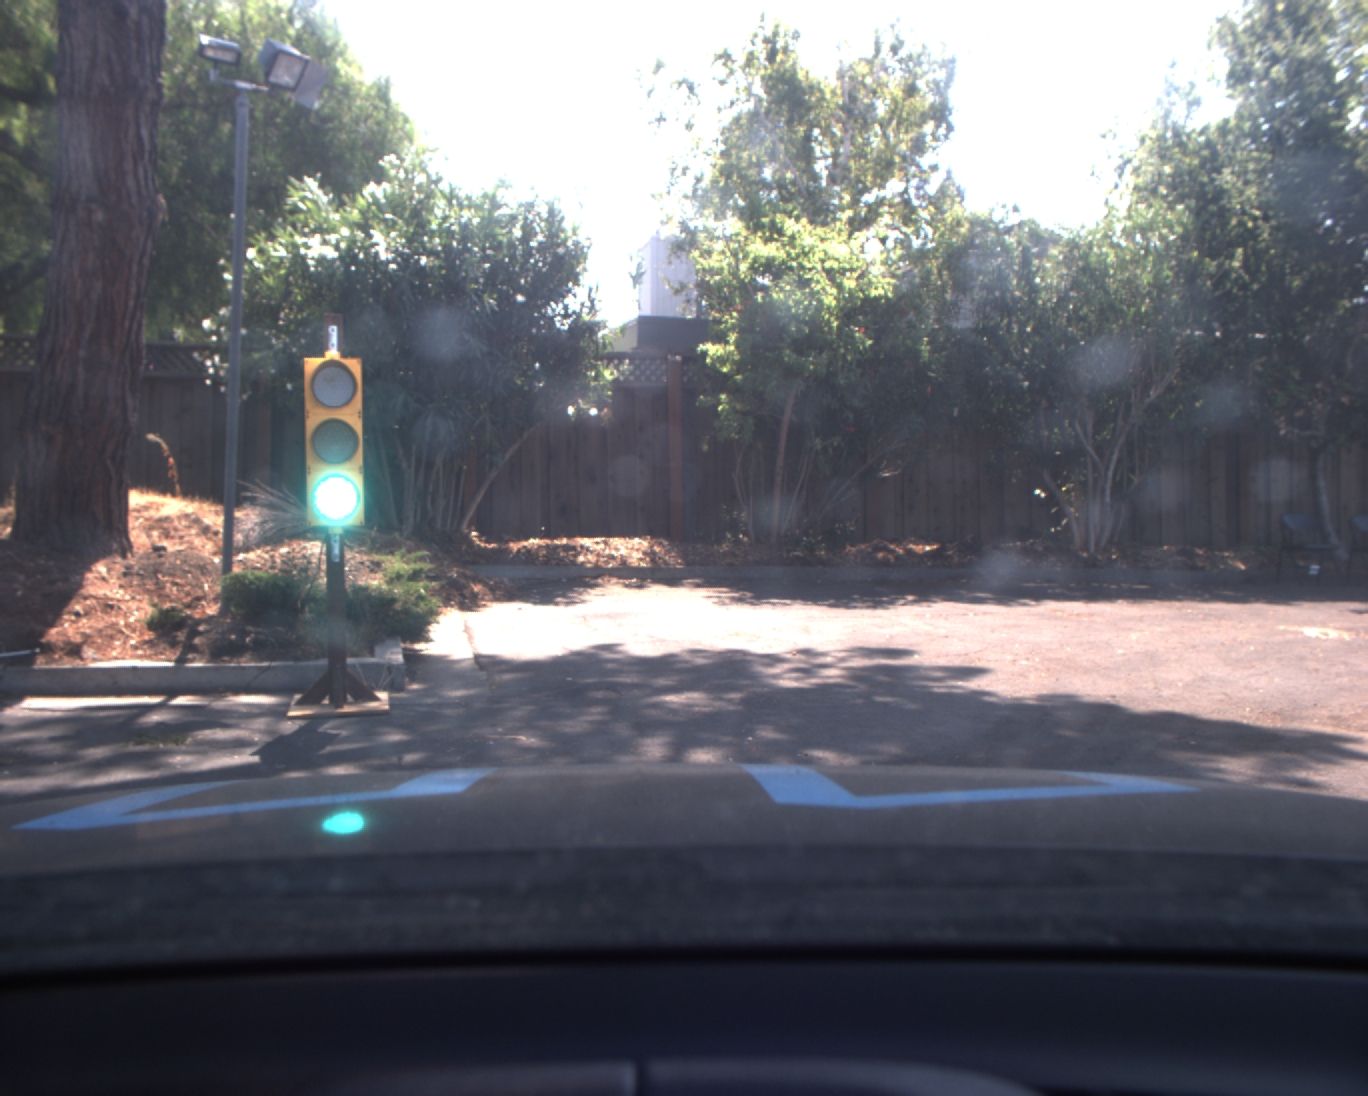green: (301, 359, 371, 530)
